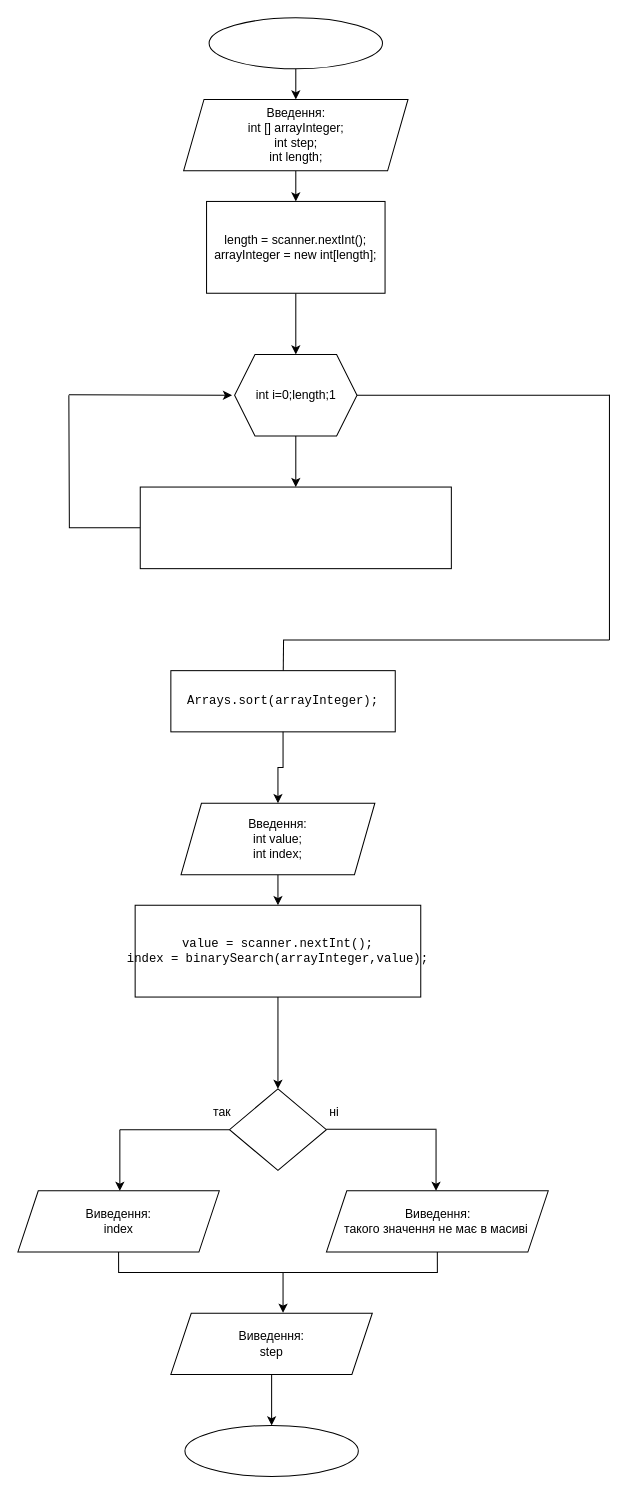
Some shapes in this 628 by 1494 pixel diagram are drawn without their labels. The shapes that lost their labels are listed below. From the top down, each one's centre as x and y in pixels, then its label:
At point 295,43: "Початок".
At point 295,527: "arrayInteger[i] = (int) (Math. random () * 10);".
At point 277,1129: "index>0".
At point 271,1450: "Кінець".
